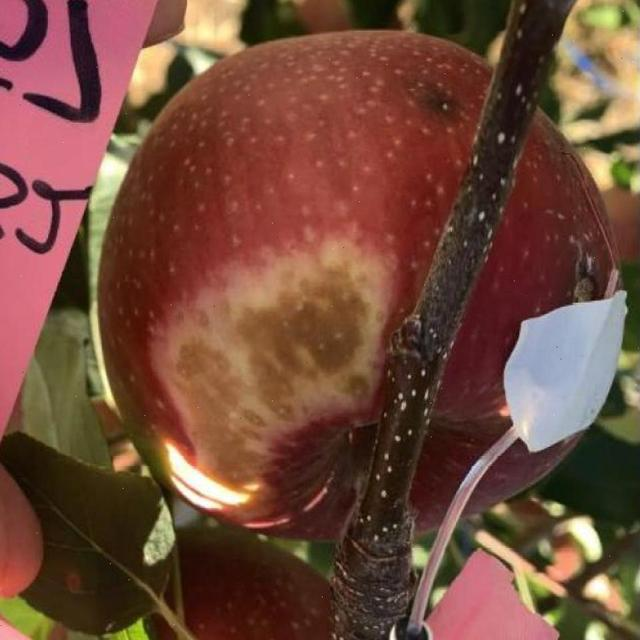Sunscald Fruit: (105, 150, 263, 332)
